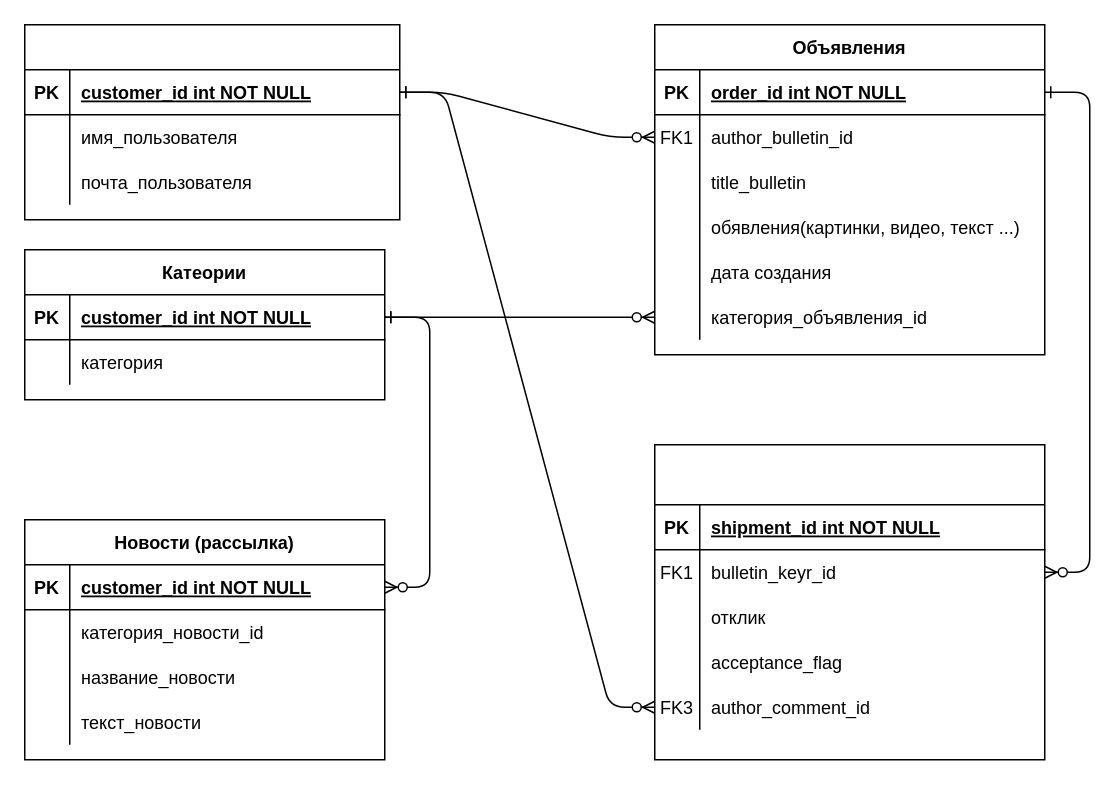
This 1115x785 diagram has some shape labels left out. The box of each missing label's shape, as (x1, y1, x2, y2) in pixels:
User (получить код при реистрации): (23, 23, 400, 220)
Отклики (с оповещением по почте, приватность, редактирование\удаление\принятие ): (653, 443, 1045, 760)
